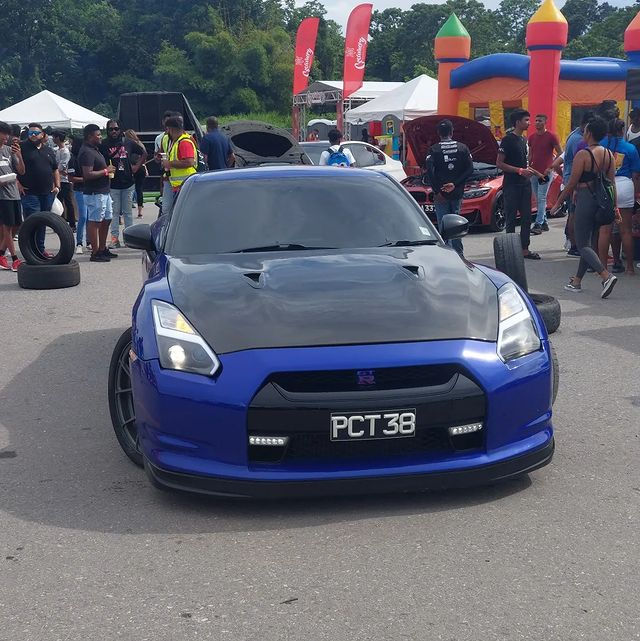License-Plate: (329, 412, 416, 440)
